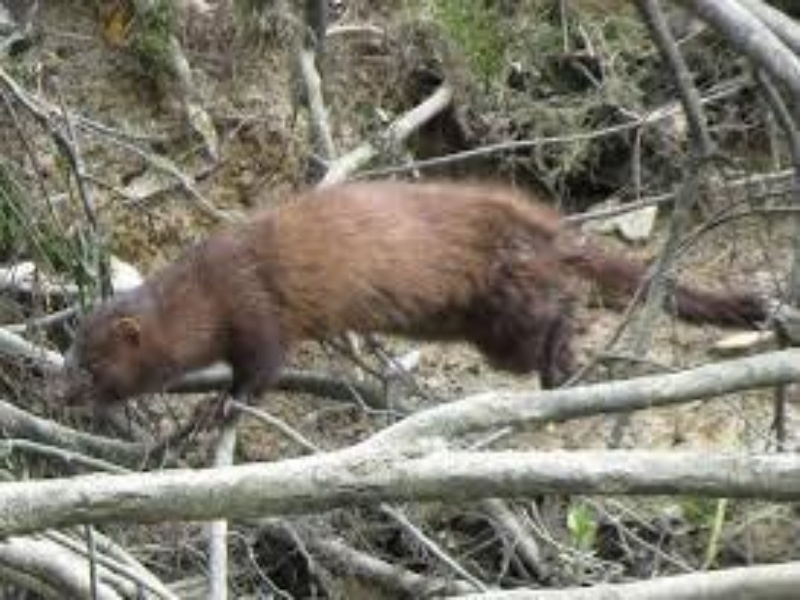minkish: (43, 172, 768, 416)
